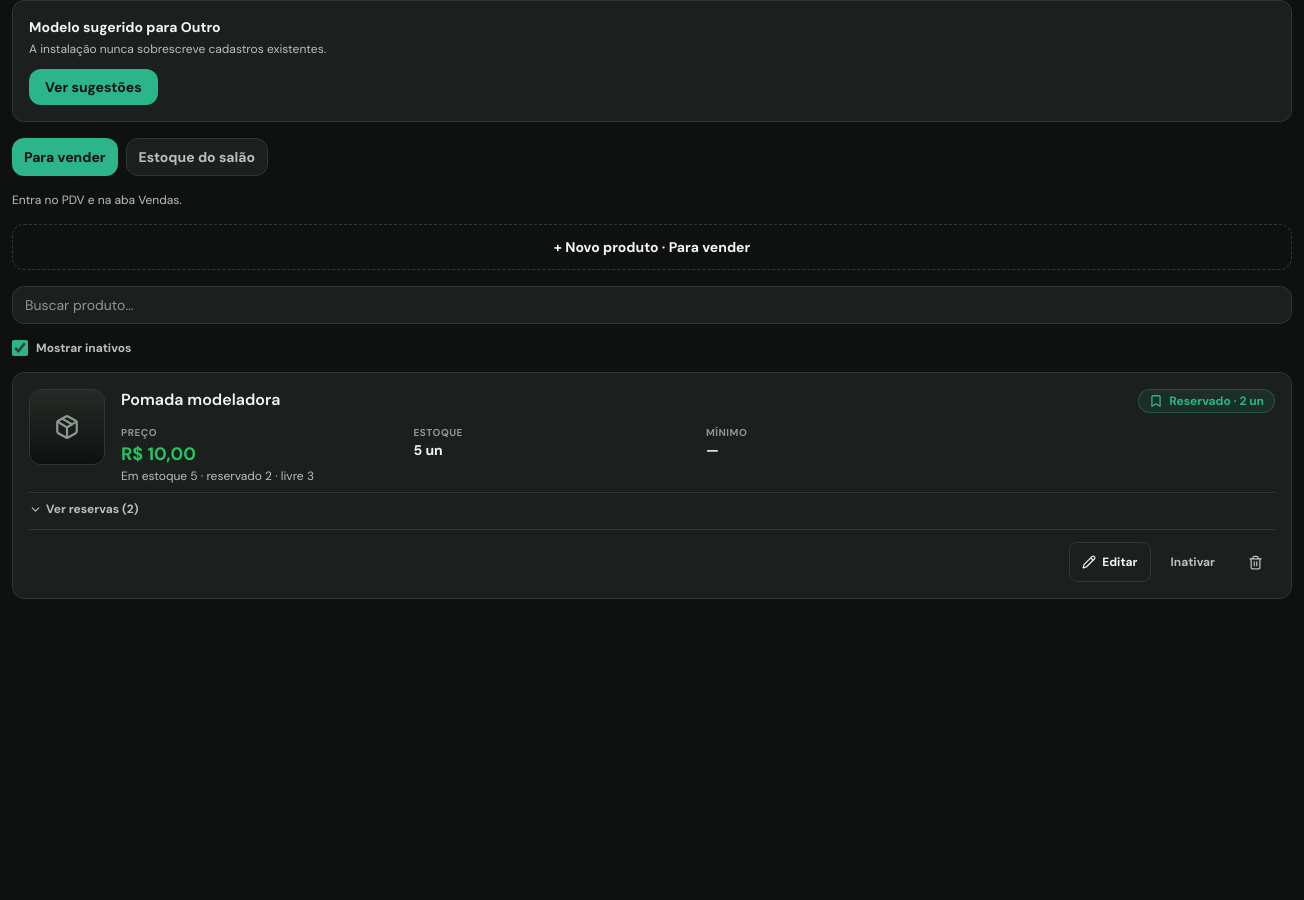
Test: ProductCatalogPanel — reservas no card › recolhe a lista ao clicar de novo em Ver reservas
The image size is (1304, 900).
Click the button "Ver reservas (2)" at (84, 509), box [29,501,139,517]
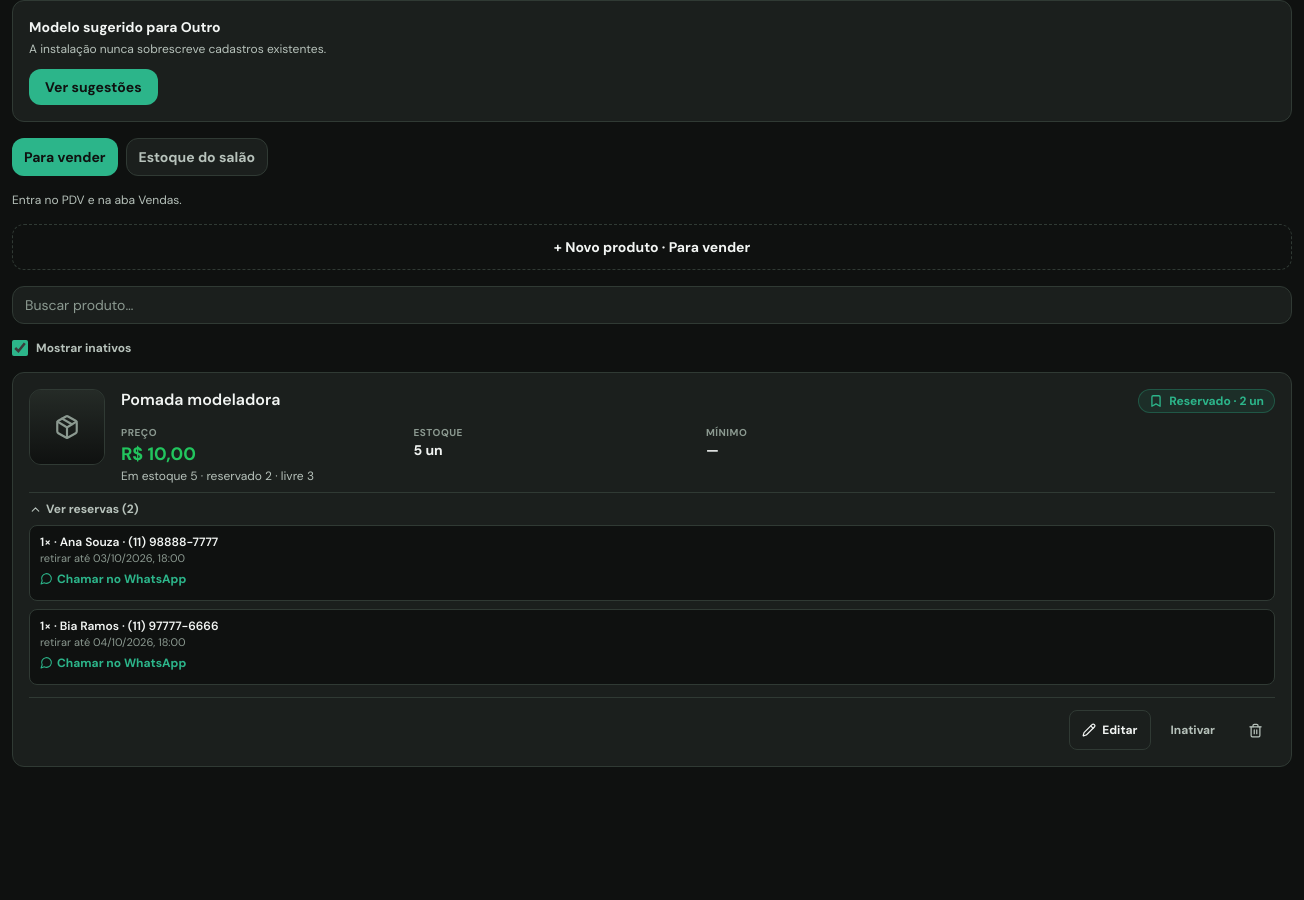
Now the text "1× · Ana Souza · (11) 98888-7777" is shown, box [40,534,218,550]
Click the button "Ver reservas (2)" at (84, 509), box [29,501,139,517]
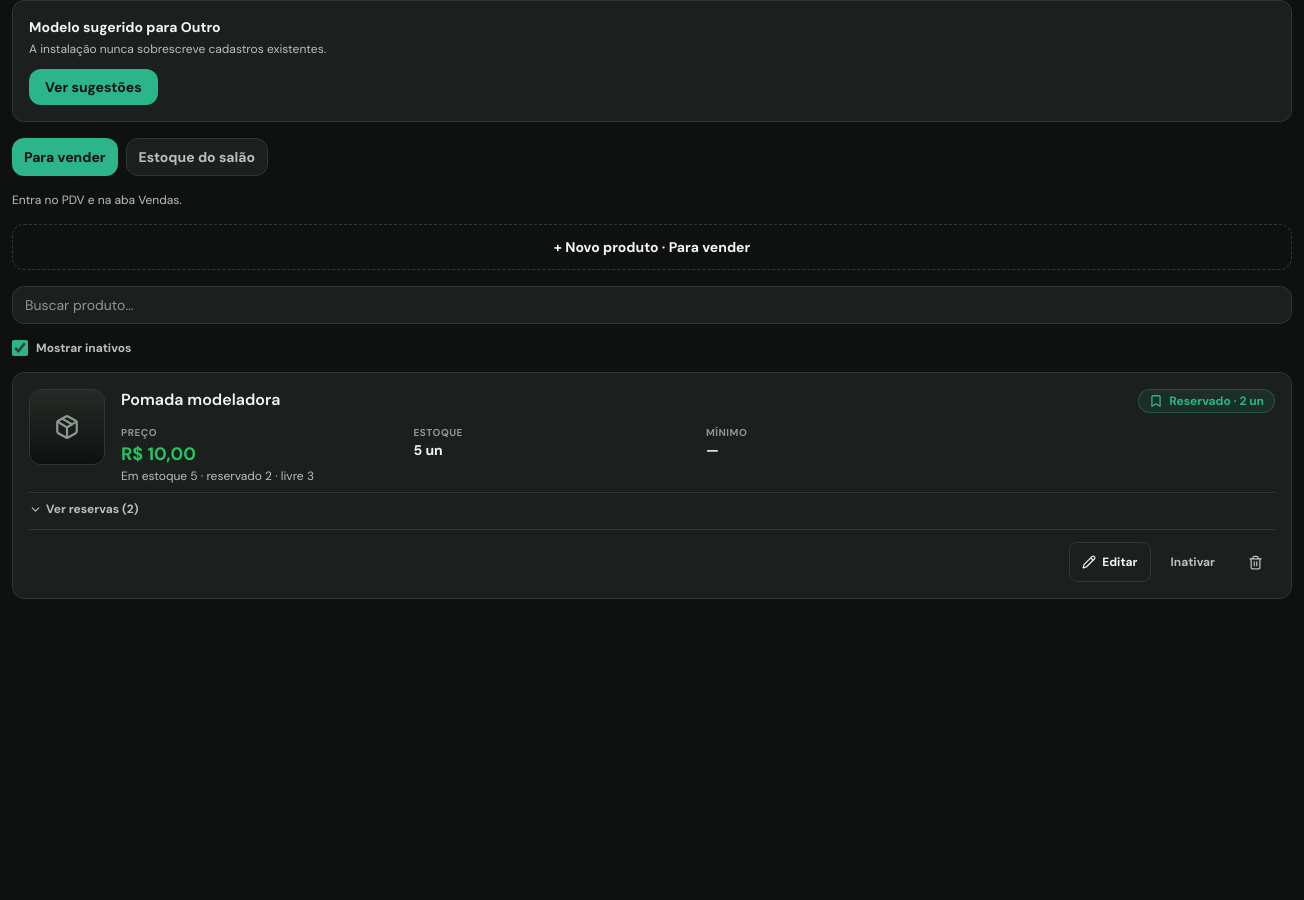
Now the text "1× · Ana Souza · (11) 98888-7777" is gone
